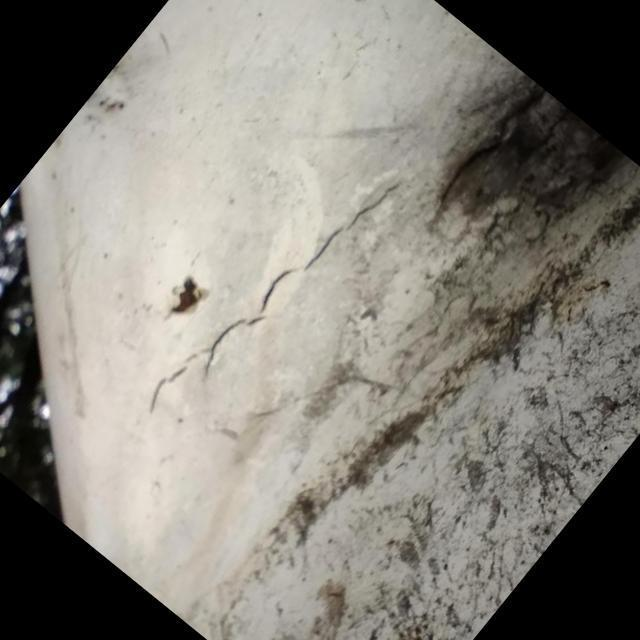defect: (145, 174, 409, 418)
